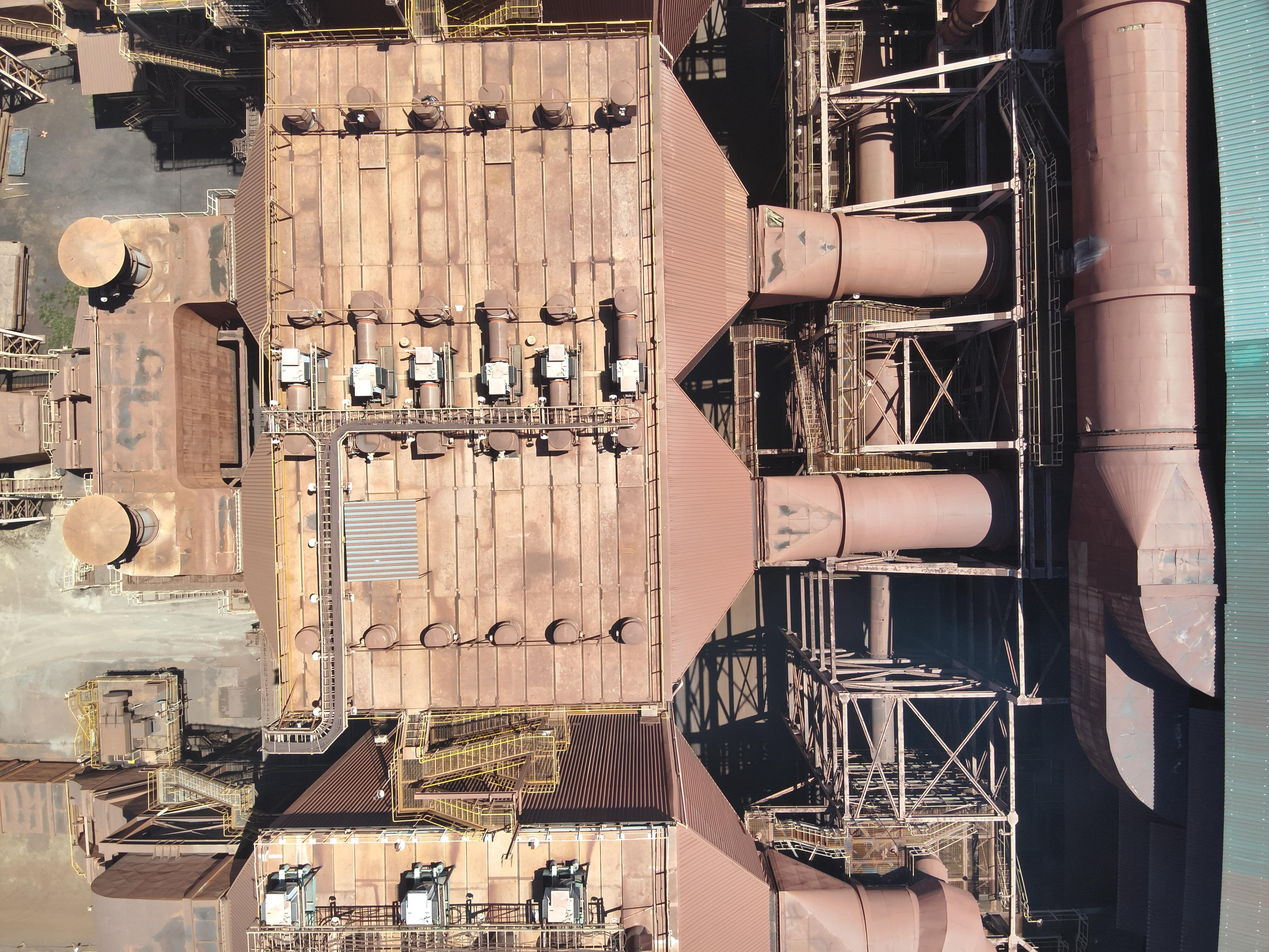Failures: (1078, 416, 1125, 438), (1115, 20, 1165, 36), (765, 206, 786, 230)
